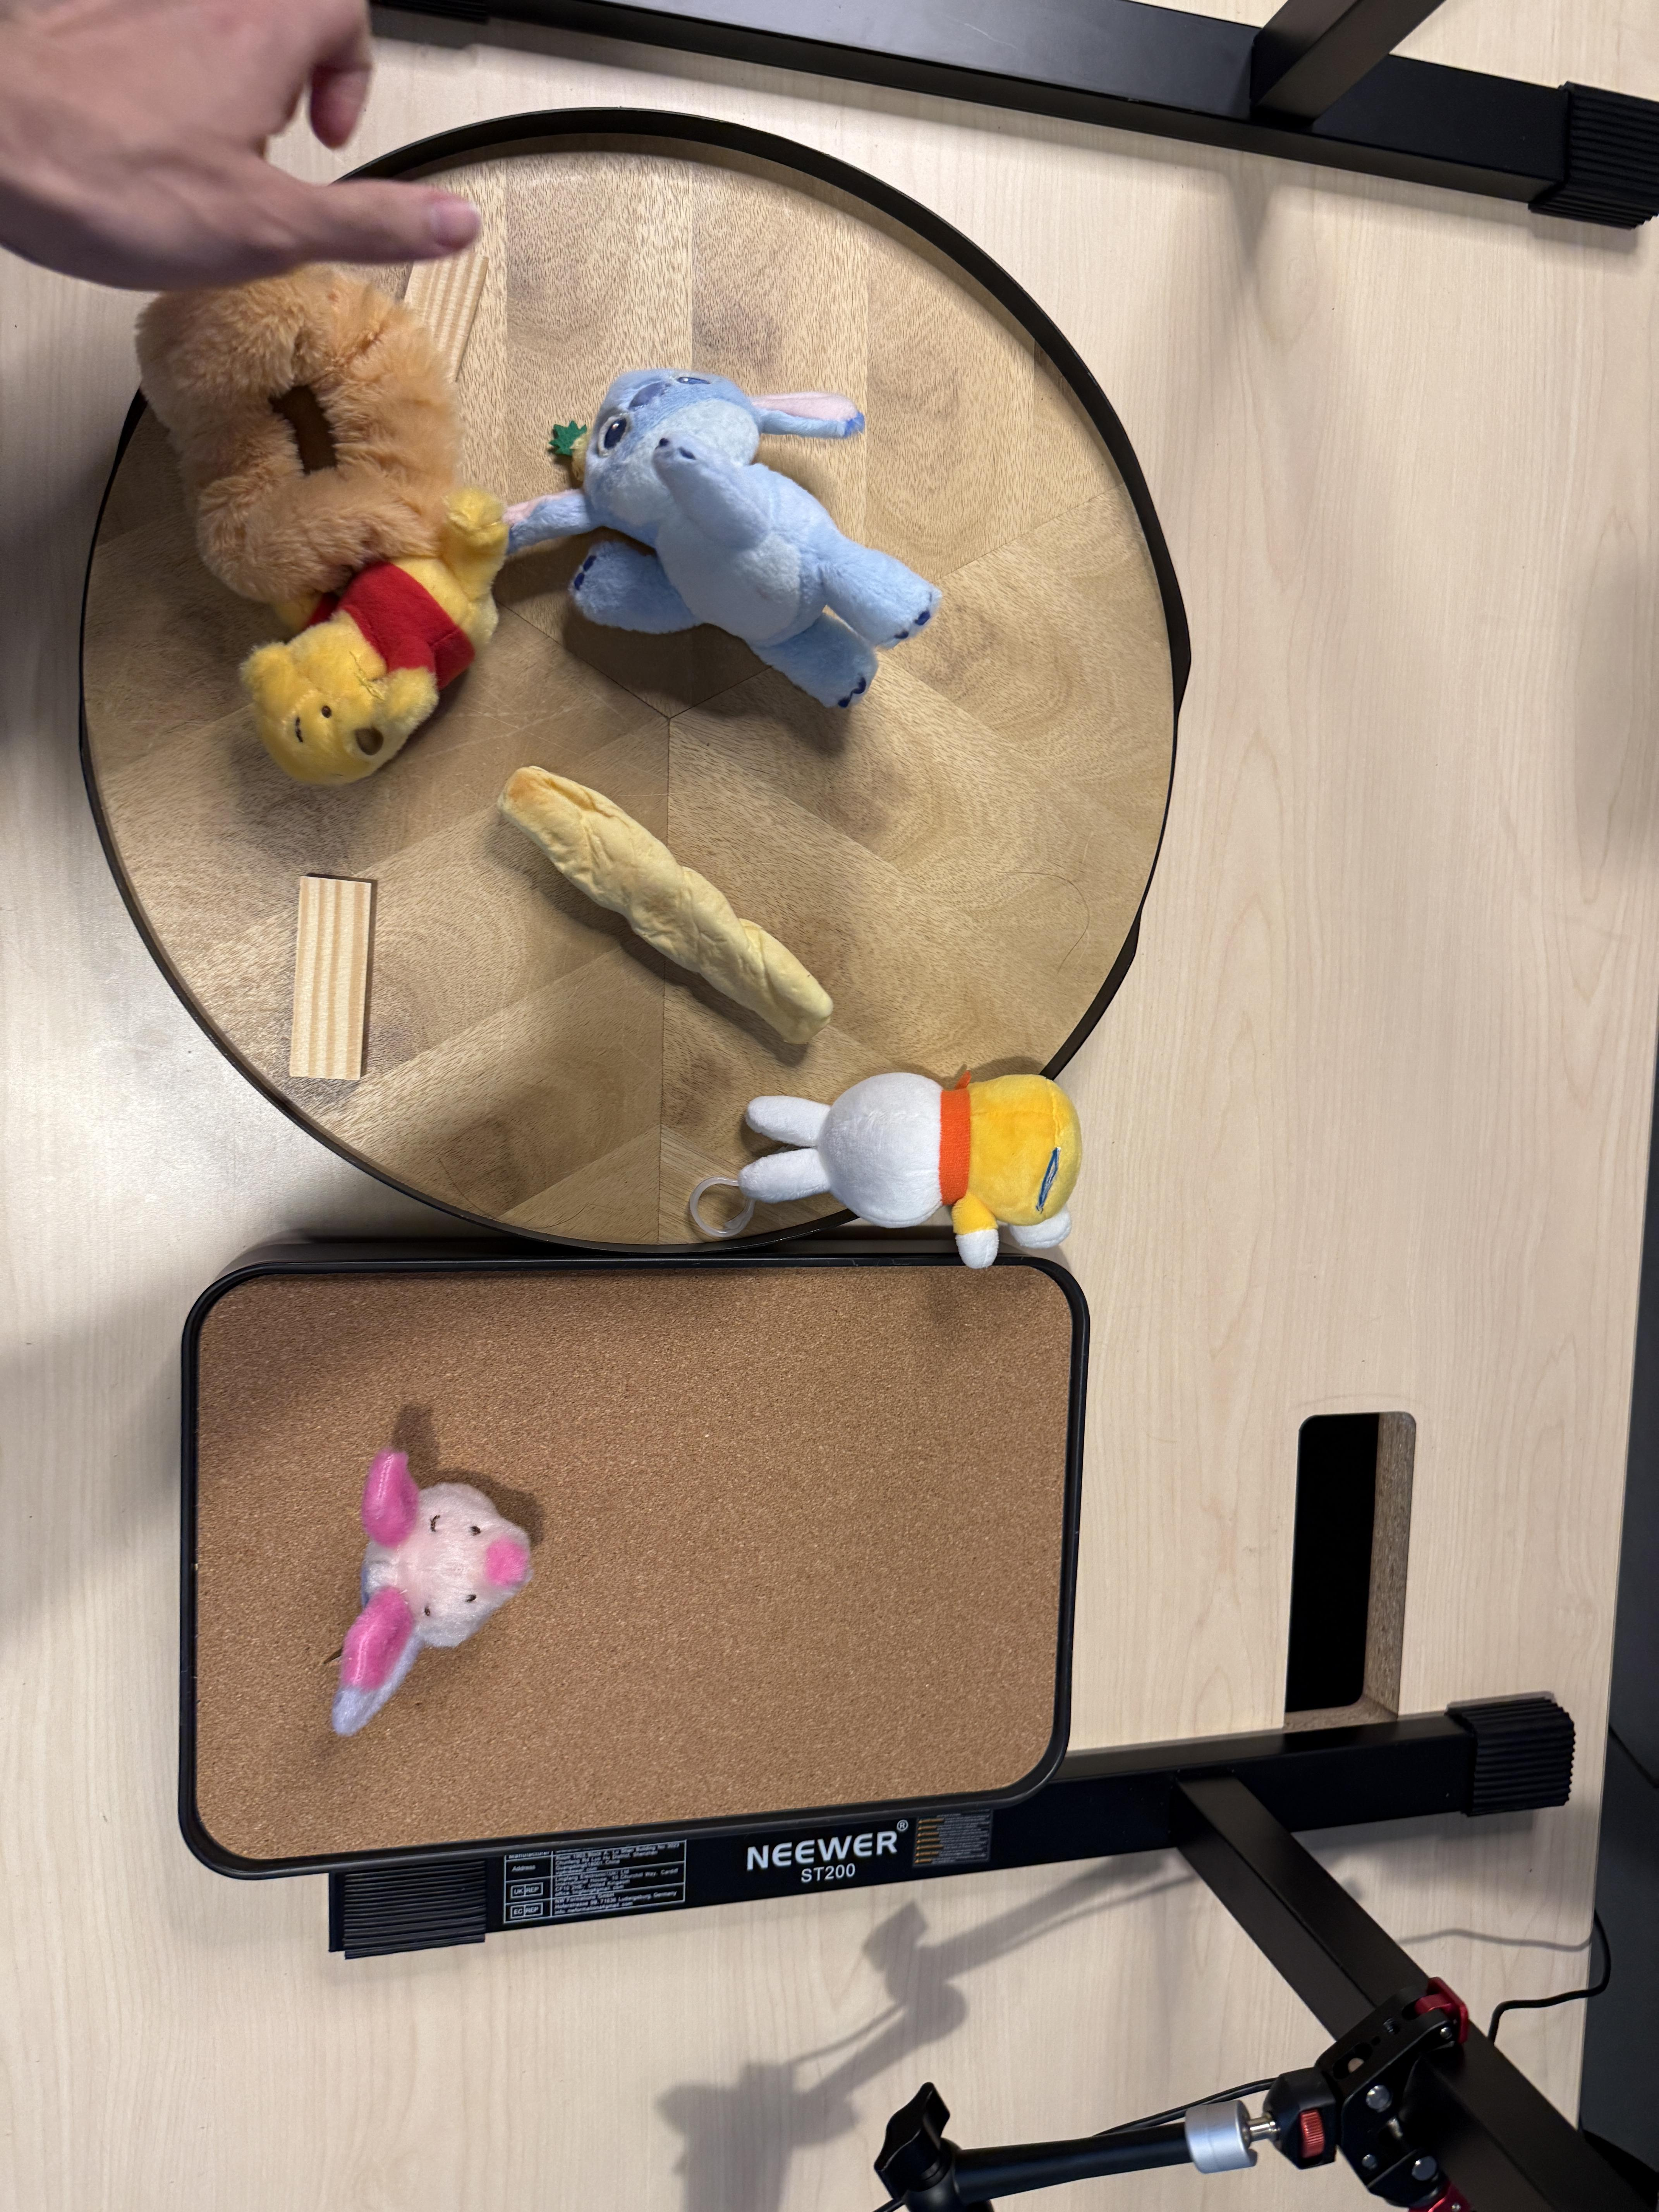block: (282, 871, 396, 1083)
bread: (504, 770, 843, 1045)
doll: (146, 260, 512, 782), (504, 368, 941, 712), (744, 1069, 1089, 1264), (336, 1449, 533, 1731), (504, 357, 509, 369)
